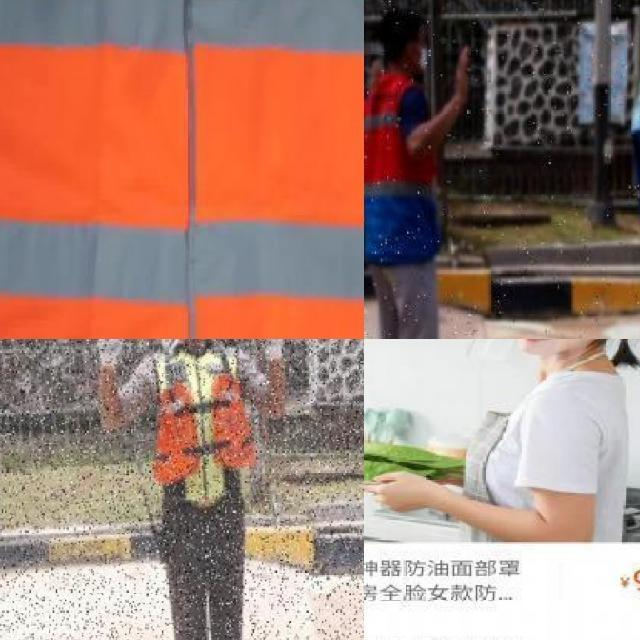apron: (90, 339, 128, 368), (252, 339, 289, 358)
